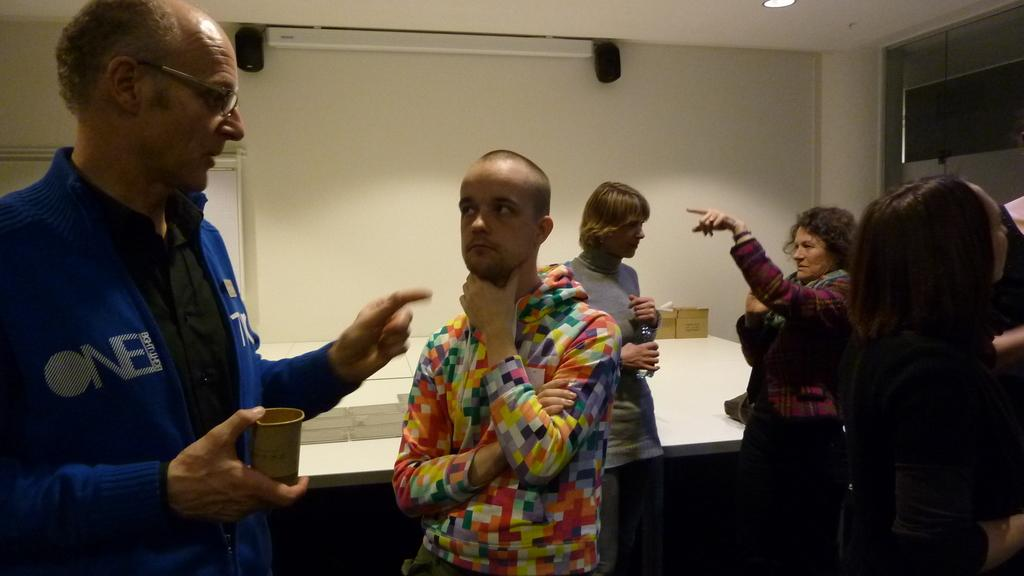Sem Máscara: (135, 37, 246, 188), (453, 156, 536, 272), (791, 222, 829, 278), (614, 218, 645, 256)
